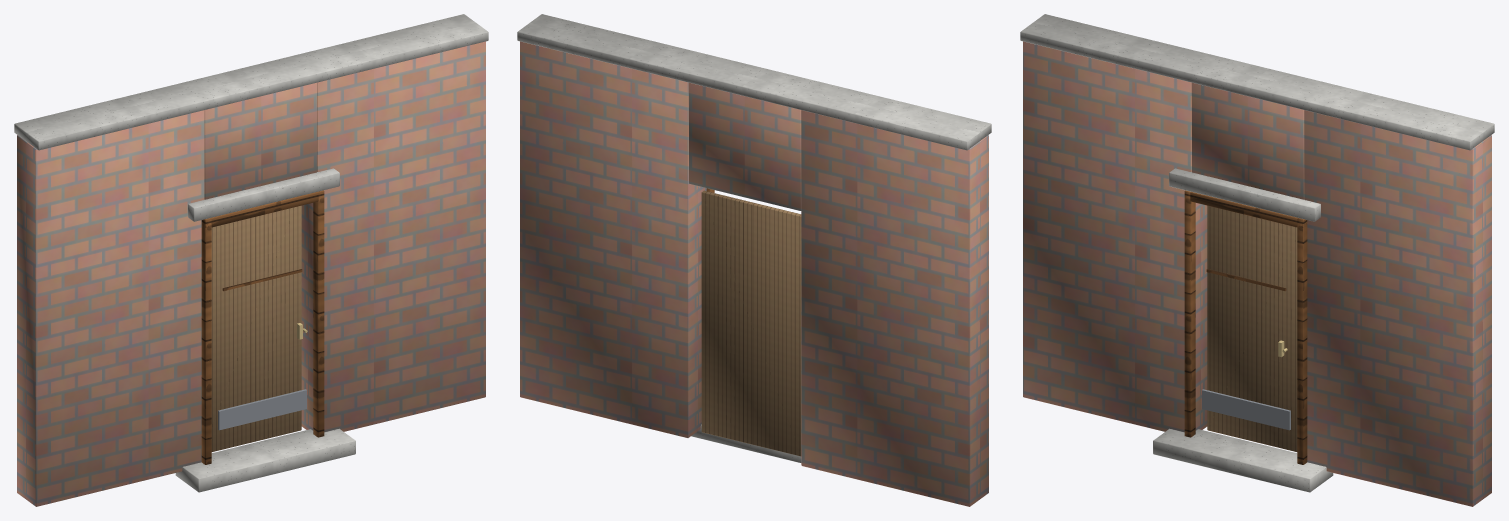
Rendered from Brick_Door.fbx.
3 views of the same model, side by side, from view 1: azimuth 30°, elevation 25°; view 2: azimuth 150°, elevation 25°; view 3: azimuth 330°, elevation 25° (orthographic).
Visible parts, largest first — view 1: LOD0; view 2: LOD0; view 3: LOD0.
Boxes of the visible parts, x1=… form: LOD0: x1=14, y1=14, x2=488, y2=506; LOD0: x1=517, y1=14, x2=991, y2=506; LOD0: x1=1020, y1=14, x2=1494, y2=506.
Size of what is drawn, in the model's own units: 400 by 320 by 59.
